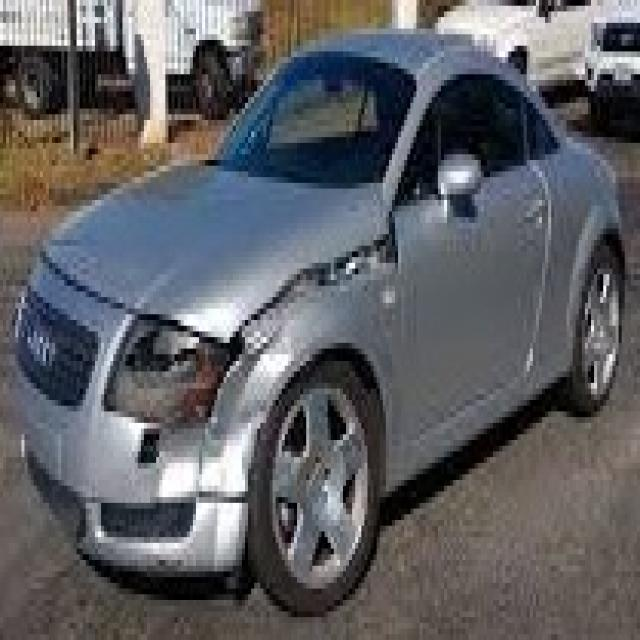moderate: (44, 240, 409, 374)
